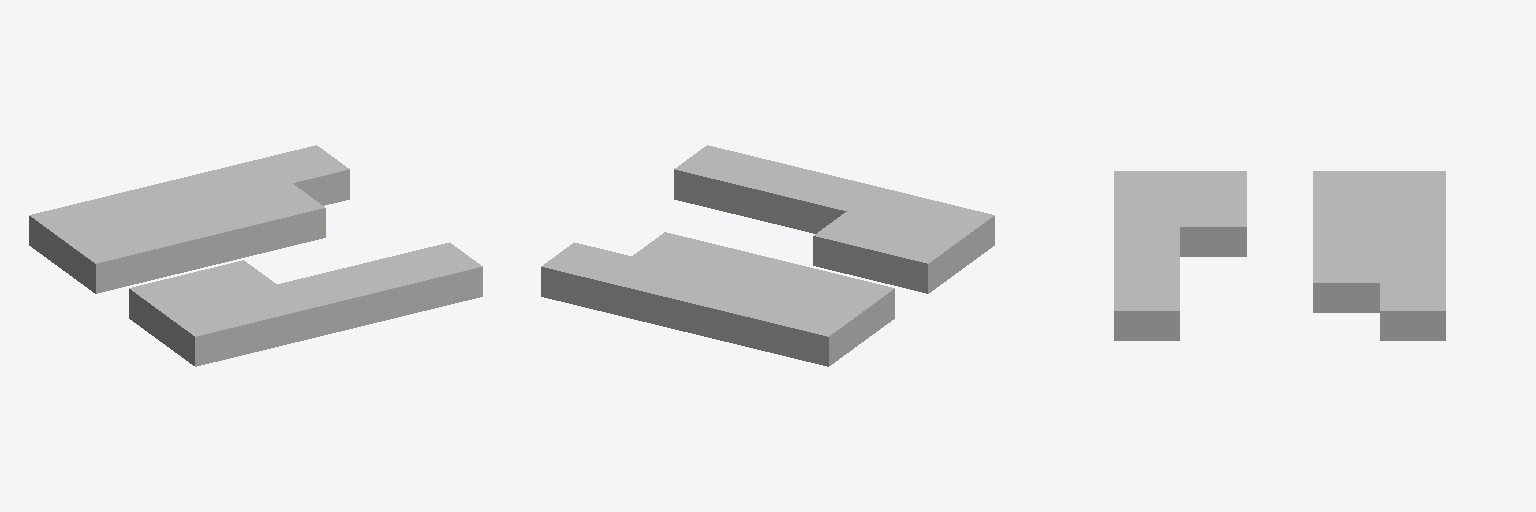
File: 2f_block.obj
3 renders of one model, left to right at view 1: azimuth 30°, elevation 25°; view 2: azimuth 150°, elevation 25°; view 3: azimuth 270°, elevation 25°, orthographic.
Parts seen in each view (by area): view 1: foil.block.0.0_block.2602, foil.block.0.3_block.2604, foil.block.4.0_block.2616, foil.block.1.3_block.2608, foil.block.2.0_block.2610, foil.block.3.3_block.2614, foil.block.1.0_block.2606, foil.block.2.3_block.2611, foil.block.3.0_block.2613, foil.block.4.4_block.2618, foil.block.0.4_block.2605, foil.block.0.1_block.2603 (+4 smaller); view 2: foil.block.0.1_block.2603, foil.block.0.4_block.2605, foil.block.4.4_block.2618, foil.block.1.1_block.2607, foil.block.2.4_block.2612, foil.block.4.0_block.2616, foil.block.1.4_block.2609, foil.block.3.0_block.2613, foil.block.3.4_block.2615, foil.block.2.0_block.2610, foil.block.0.0_block.2602, foil.block.0.3_block.2604 (+4 smaller); view 3: foil.block.1.1_block.2607, foil.block.3.3_block.2614, foil.block.4.0_block.2616, foil.block.4.4_block.2618, foil.block.0.1_block.2603, foil.block.0.3_block.2604, foil.block.1.3_block.2608, foil.block.2.3_block.2611, foil.block.0.0_block.2602, foil.block.0.4_block.2605, foil.block.1.0_block.2606, foil.block.1.4_block.2609 (+4 smaller).
Part boxes in pixels (bbox=[...]): foil.block.0.0_block.2602: bbox=[162, 298, 252, 366]; foil.block.0.3_block.2604: bbox=[62, 226, 152, 293]; foil.block.4.0_block.2616: bbox=[392, 242, 482, 310]; foil.block.1.3_block.2608: bbox=[120, 212, 210, 279]; foil.block.2.0_block.2610: bbox=[277, 270, 367, 338]; foil.block.3.3_block.2614: bbox=[235, 183, 325, 251]; foil.block.1.0_block.2606: bbox=[220, 285, 309, 352]; foil.block.2.3_block.2611: bbox=[177, 198, 267, 265]; foil.block.3.0_block.2613: bbox=[335, 257, 424, 324]; foil.block.4.4_block.2618: bbox=[260, 145, 349, 205]; foil.block.0.4_block.2605: bbox=[29, 201, 119, 268]; foil.block.0.1_block.2603: bbox=[129, 274, 218, 341]; foil.block.0.1_block.2603: bbox=[871, 226, 961, 293]; foil.block.0.4_block.2605: bbox=[771, 298, 861, 366]; foil.block.4.4_block.2618: bbox=[541, 242, 631, 310]; foil.block.1.1_block.2607: bbox=[813, 212, 903, 279]; foil.block.2.4_block.2612: bbox=[656, 270, 746, 338]; foil.block.4.0_block.2616: bbox=[674, 145, 763, 213]; foil.block.1.4_block.2609: bbox=[714, 285, 803, 352]; foil.block.3.0_block.2613: bbox=[732, 159, 821, 226]; foil.block.3.4_block.2615: bbox=[599, 257, 688, 324]; foil.block.2.0_block.2610: bbox=[789, 173, 878, 233]; foil.block.0.0_block.2602: bbox=[904, 201, 994, 268]; foil.block.0.3_block.2604: bbox=[805, 274, 894, 341]; foil.block.1.1_block.2607: bbox=[1180, 199, 1246, 256]; foil.block.3.3_block.2614: bbox=[1313, 255, 1379, 312]; foil.block.4.0_block.2616: bbox=[1114, 283, 1179, 340]; foil.block.4.4_block.2618: bbox=[1380, 283, 1445, 340]; foil.block.0.1_block.2603: bbox=[1180, 171, 1246, 198]; foil.block.0.3_block.2604: bbox=[1313, 171, 1379, 198]; foil.block.1.3_block.2608: bbox=[1313, 199, 1379, 226]; foil.block.2.3_block.2611: bbox=[1313, 227, 1379, 254]; foil.block.0.0_block.2602: bbox=[1114, 171, 1179, 198]; foil.block.0.4_block.2605: bbox=[1380, 171, 1445, 198]; foil.block.1.0_block.2606: bbox=[1114, 199, 1179, 226]; foil.block.1.4_block.2609: bbox=[1380, 199, 1445, 226].
Bounding box in the file's own units: 10 × 1 × 10.